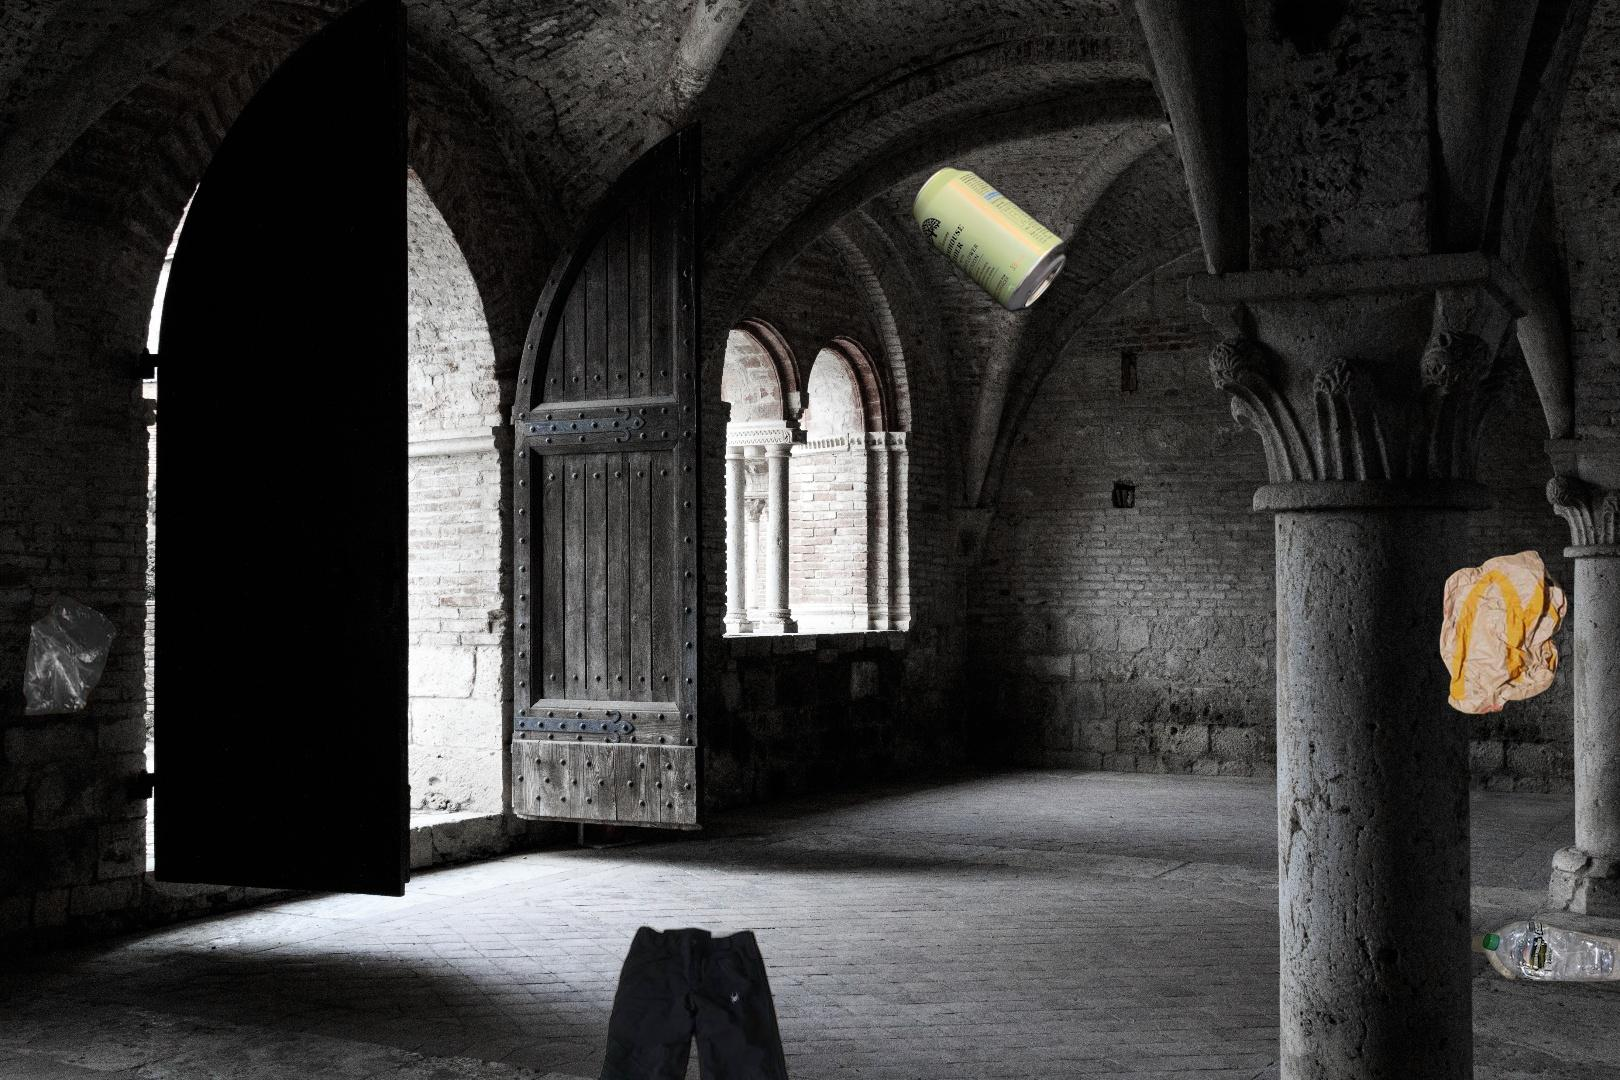clothes: (567, 921, 816, 1080)
metal-cans: (428, 862, 662, 1080), (906, 160, 1072, 318)
paper-bag: (1437, 542, 1571, 716)
plastic-bag: (20, 592, 122, 818)
plastic-bottles: (1466, 917, 1620, 985)
